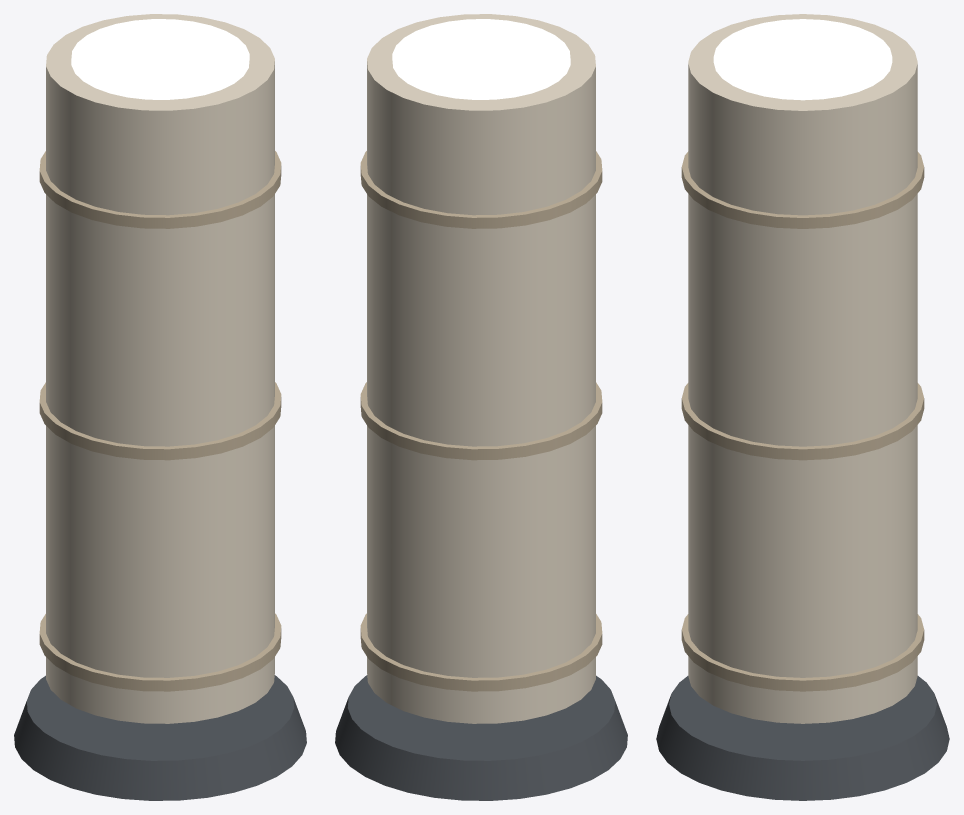
The model's file is lamp_cylinder.glb.
3 renders of one model, left to right at view 1: azimuth 30°, elevation 25°; view 2: azimuth 150°, elevation 25°; view 3: azimuth 270°, elevation 25°, orthographic.
Parts seen in each view (by area): view 1: DiffusionSleeve, LampBase, LightColumn, RingTrim, _MeshInstance3D_65, _MeshInstance3D_64; view 2: DiffusionSleeve, LampBase, LightColumn, RingTrim, _MeshInstance3D_65, _MeshInstance3D_64; view 3: DiffusionSleeve, LampBase, LightColumn, _MeshInstance3D_65, _MeshInstance3D_64, RingTrim.
Part boxes in pixels (<box>): DiffusionSleeve: <box>46,14,274,723</box>; LampBase: <box>14,675,306,800</box>; LightColumn: <box>71,19,249,99</box>; RingTrim: <box>39,613,281,691</box>; _MeshInstance3D_65: <box>39,151,281,228</box>; _MeshInstance3D_64: <box>39,382,281,460</box>; DiffusionSleeve: <box>367,14,595,723</box>; LampBase: <box>335,675,627,800</box>; LightColumn: <box>392,19,570,99</box>; RingTrim: <box>360,613,602,691</box>; _MeshInstance3D_65: <box>360,151,602,228</box>; _MeshInstance3D_64: <box>360,382,602,460</box>; DiffusionSleeve: <box>688,14,917,723</box>; LampBase: <box>656,676,949,800</box>; LightColumn: <box>713,19,892,100</box>; _MeshInstance3D_65: <box>681,151,924,228</box>; _MeshInstance3D_64: <box>681,383,924,460</box>; RingTrim: <box>681,614,924,691</box>.
Bounding box in the file's own units: 0.46 × 1.18 × 0.46.
